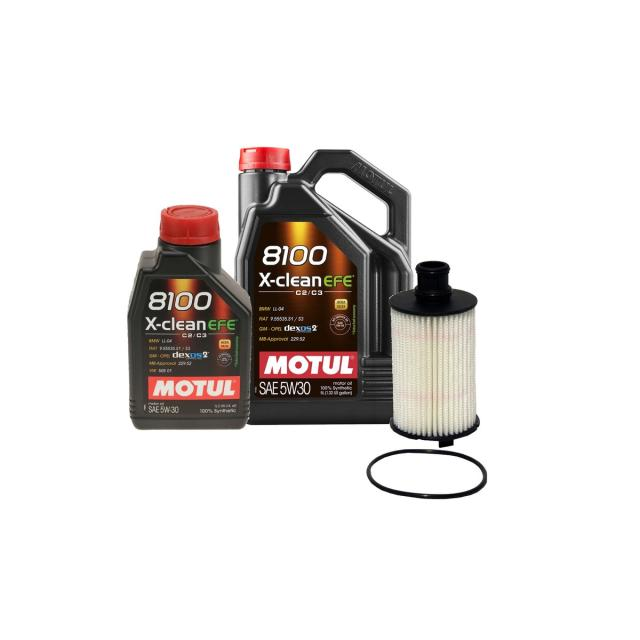motor_oil: (238, 142, 412, 430), (135, 199, 245, 430)
oil_filter: (395, 257, 487, 453)
